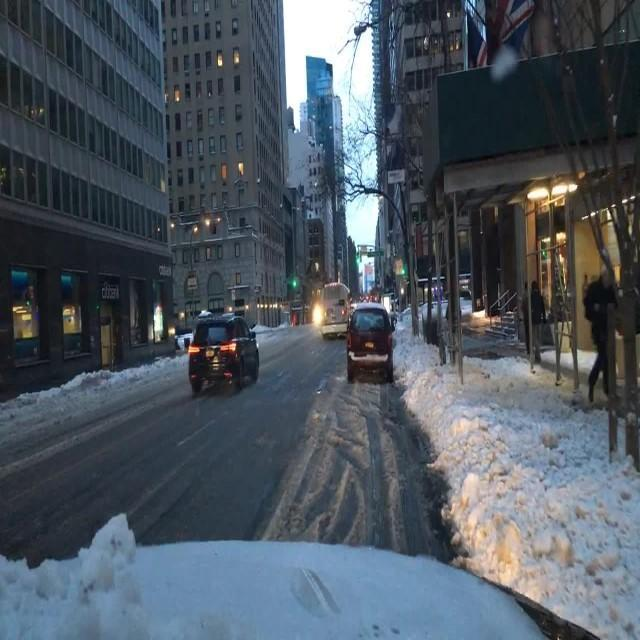normal: (187, 313, 261, 394)
